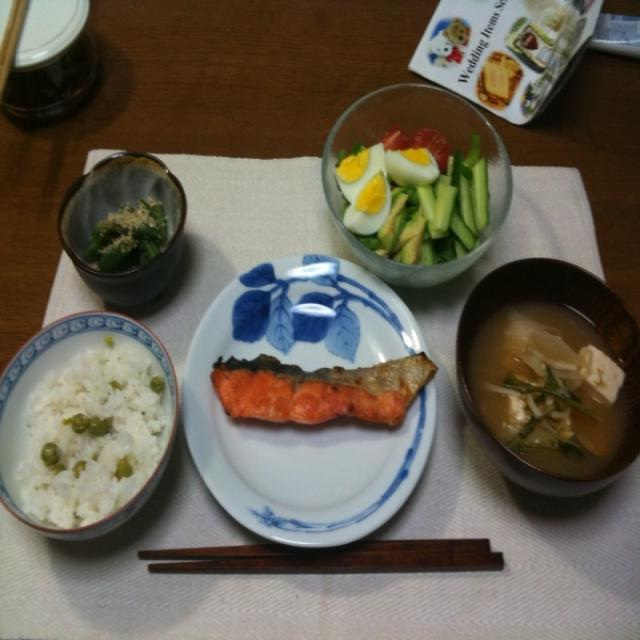汤锅炖物: (449, 266, 640, 472)
熟制海鲜: (182, 254, 440, 550)
米饭主食: (0, 313, 177, 547)
